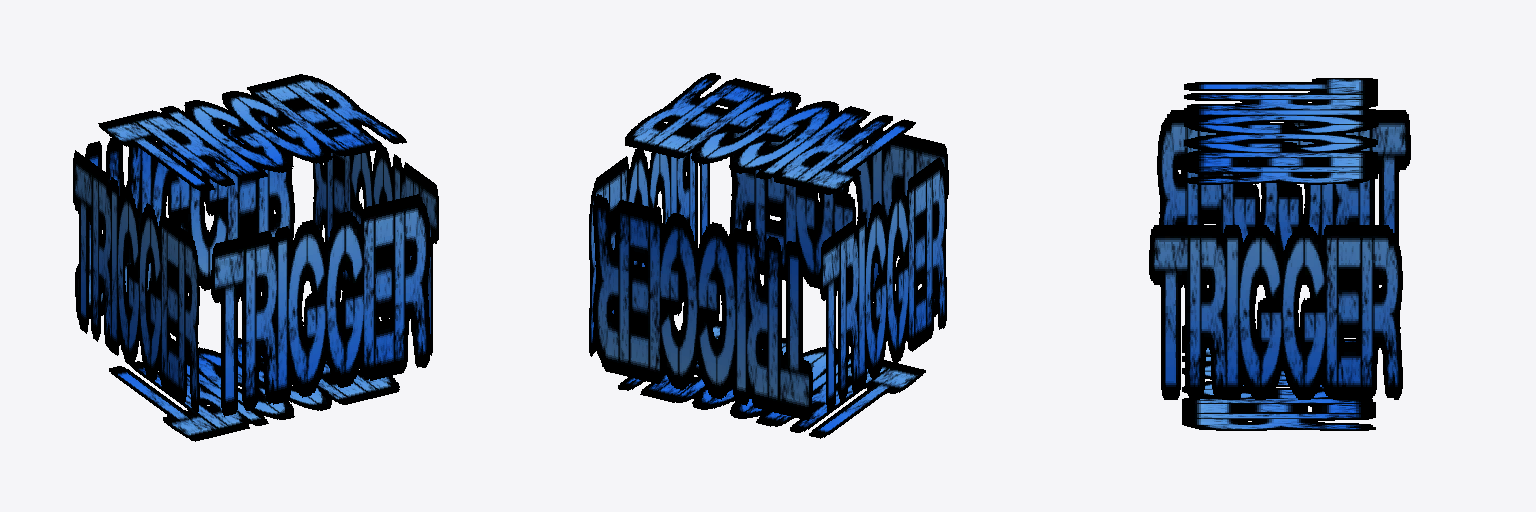
3 views of the same model, side by side, from view 1: azimuth 30°, elevation 25°; view 2: azimuth 150°, elevation 25°; view 3: azimuth 270°, elevation 25° (orthographic).
Parts seen in each view (by area): view 1: Cube; view 2: Cube; view 3: Cube.
Boxes of the visible parts, <box> form: Cube: <box>73,74,438,441</box>; Cube: <box>589,73,948,438</box>; Cube: <box>1149,78,1410,430</box>.
Size of the model in its own units: 2 by 2 by 2.
Materials: 1 (1 with a texture image).